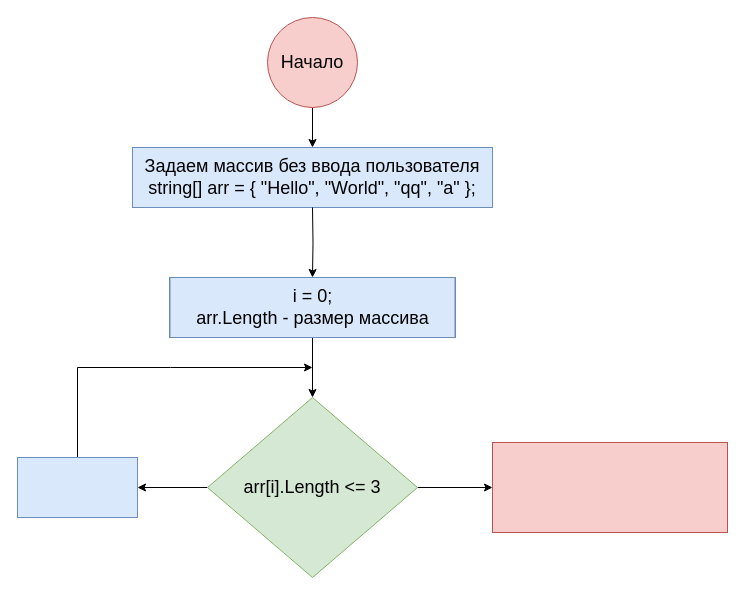
Some shapes in this 745 by 595 pixel diagram are drawn without their labels. Each missing label, with the box of its shape:
i = i + 1: (16, 456, 138, 518)
вывод массива на экран Console.Write(arr[i] + " ");: (492, 442, 728, 532)
